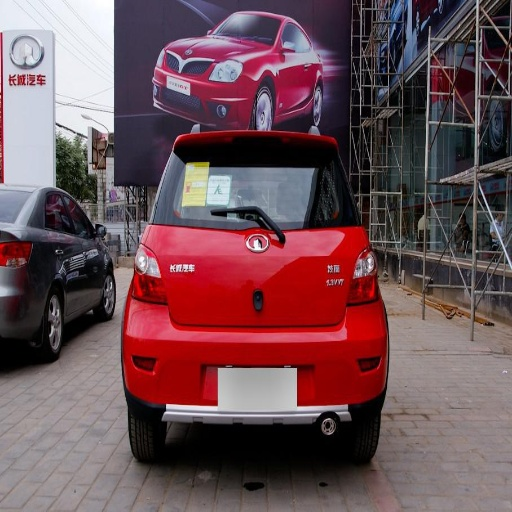back_bumper: (124, 297, 384, 425)
back_right_door: (43, 197, 81, 279)
back_right_light: (351, 243, 377, 303)
front_bumper: (155, 54, 251, 134)
front_glass: (217, 14, 277, 38)
front_left_door: (279, 23, 312, 111)
trunk: (134, 220, 365, 360)
